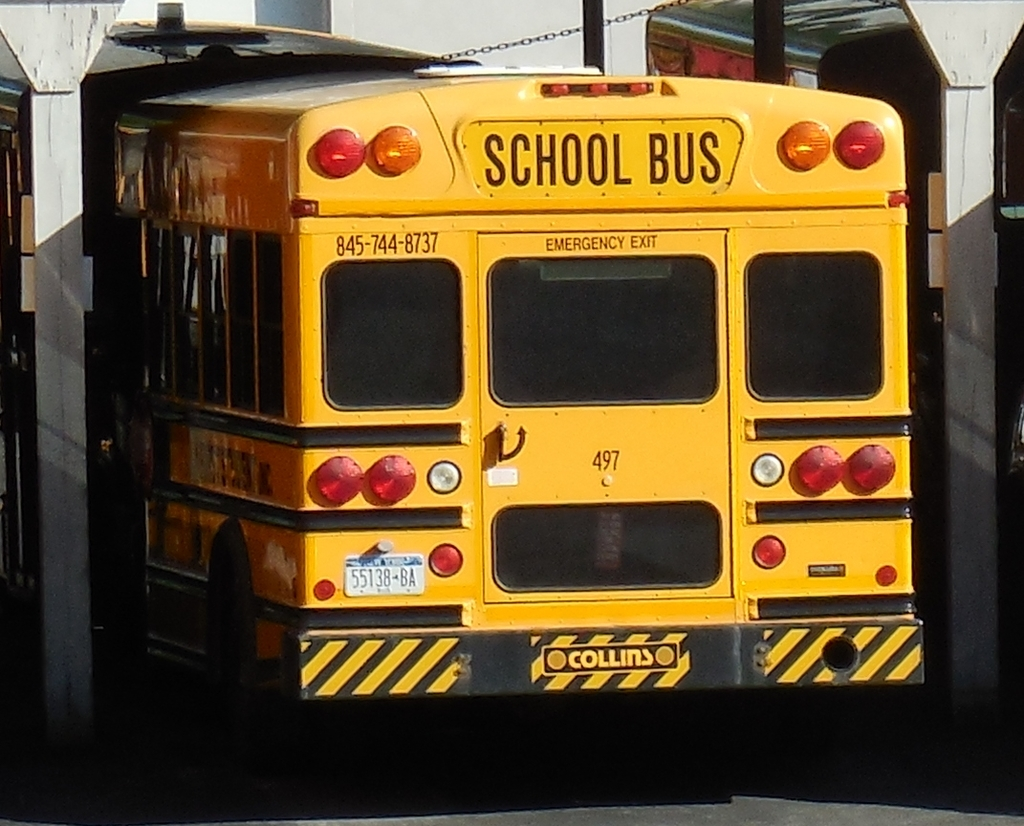Bus: (97, 62, 920, 686)
